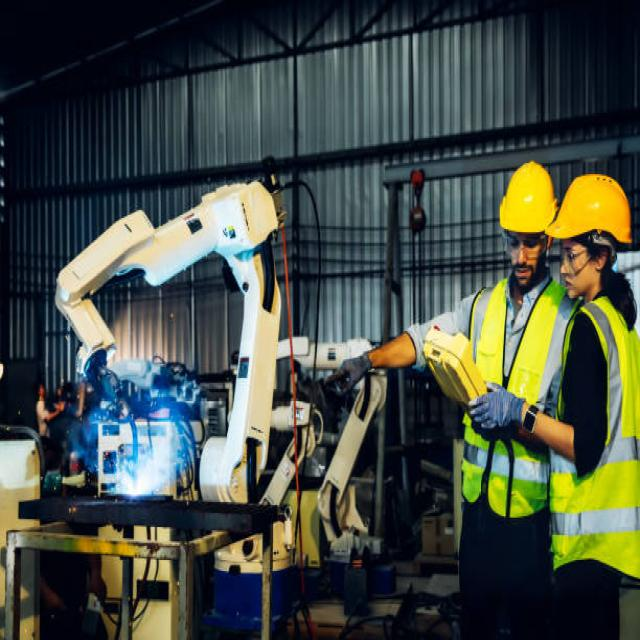Robotic-arm: (48, 176, 286, 518), (285, 322, 388, 550)
